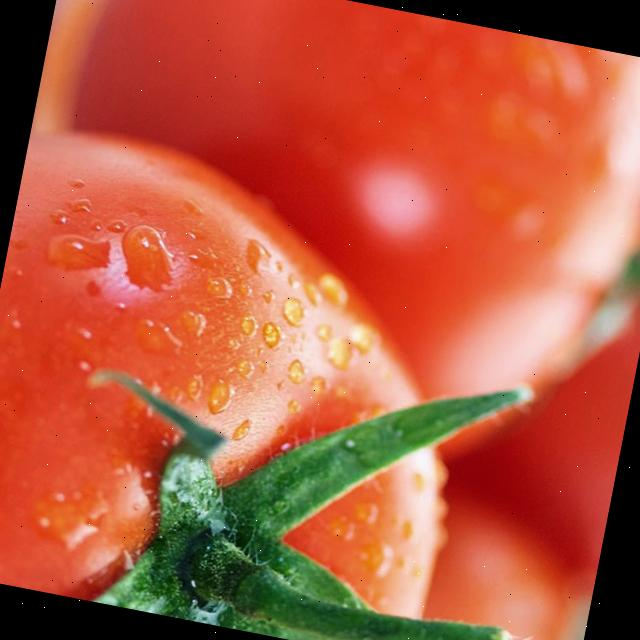tomato: (0, 112, 525, 640), (50, 0, 640, 449), (51, 354, 619, 640), (367, 49, 640, 640)
